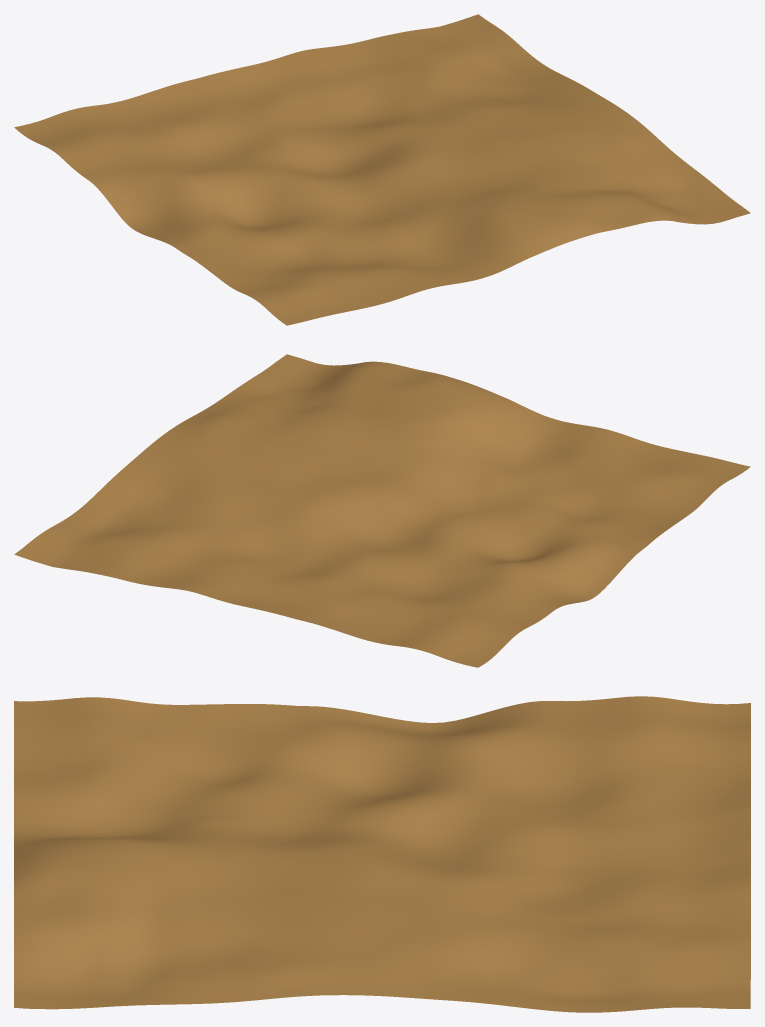
Rendered from terre_chemin_courve1.fbx.
The picture shows the model from 3 angles, top to bottom: view 1: azimuth 30°, elevation 25°; view 2: azimuth 150°, elevation 25°; view 3: azimuth 270°, elevation 25°; orthographic projection. The views are drawn at different scales.
Visible parts, largest first — view 1: chemin_courve2; view 2: chemin_courve2; view 3: chemin_courve2.
Part boxes in pixels (x1=…): chemin_courve2: x1=14, y1=14, x2=750, y2=325; chemin_courve2: x1=14, y1=354, x2=750, y2=667; chemin_courve2: x1=14, y1=696, x2=750, y2=1012.
Size of the model in its own units: 708 by 57.2 by 720.
